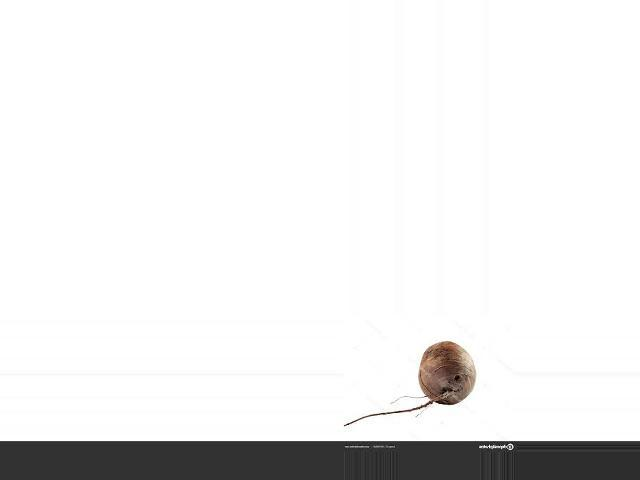beet: (343, 342, 475, 426)
